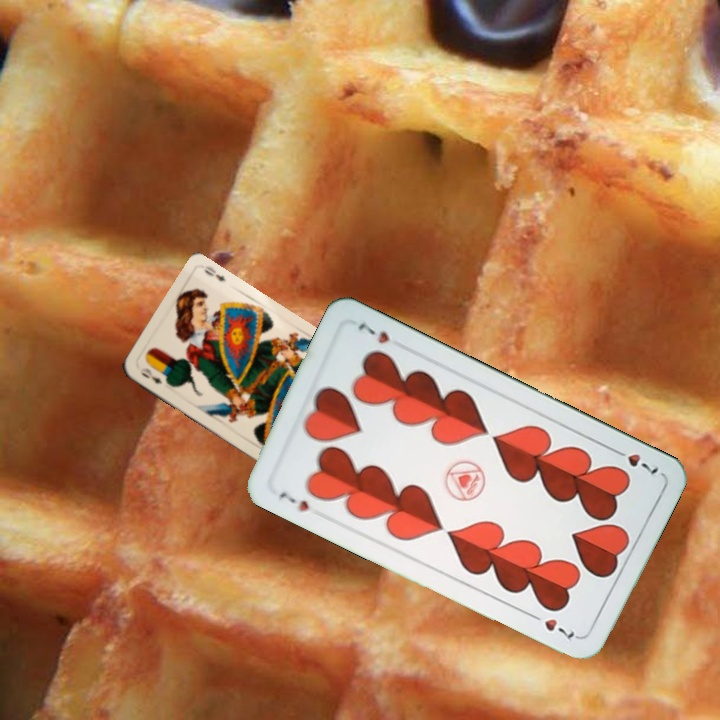EO: (136, 364, 164, 387)
H7: (608, 444, 662, 477), (275, 487, 312, 515)
